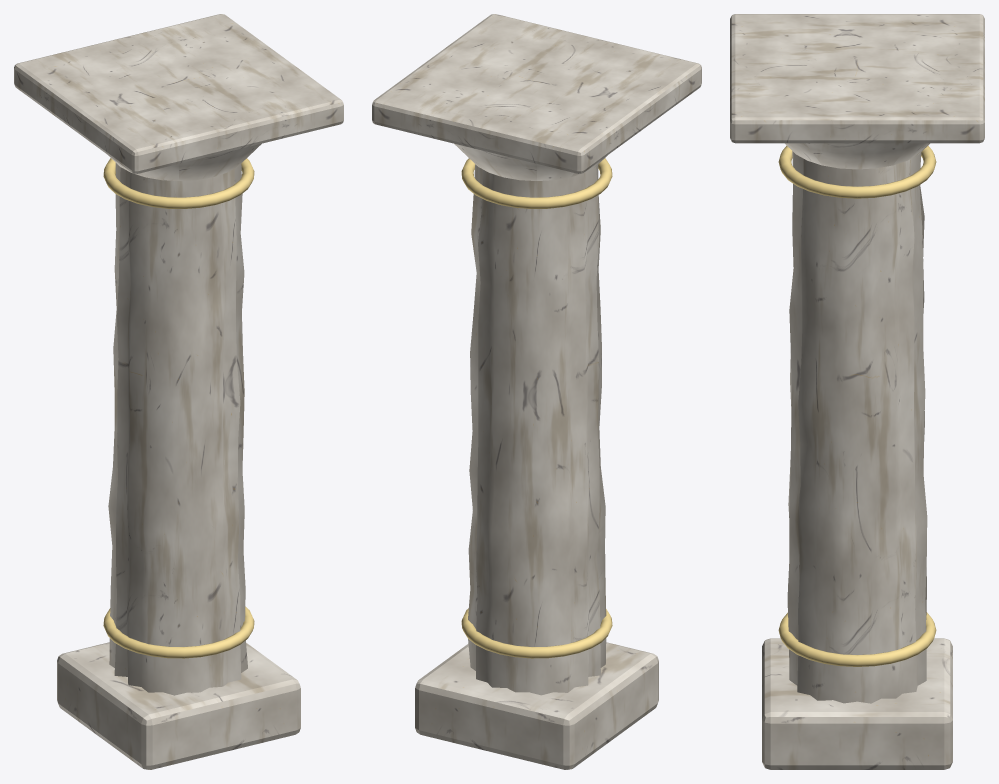
File: ENV_Royal_Column.fbx
3 renders of one model, left to right at view 1: azimuth 30°, elevation 25°; view 2: azimuth 150°, elevation 25°; view 3: azimuth 270°, elevation 25°, orthographic. The views are drawn at different scales.
Parts seen in each view (by area): view 1: ENV_Royal_Column; view 2: ENV_Royal_Column; view 3: ENV_Royal_Column.
Boxes of the visible parts, <box> form: ENV_Royal_Column: <box>14,14,343,769</box>; ENV_Royal_Column: <box>372,14,701,769</box>; ENV_Royal_Column: <box>730,14,984,769</box>.
Size of the model in its own units: 0.72 by 2.08 by 0.72.
